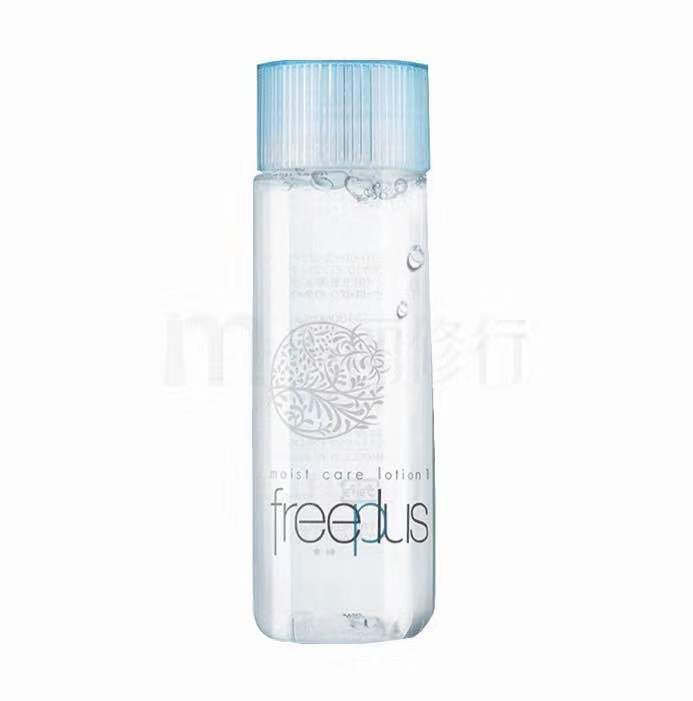cosmetic: (257, 66, 437, 646)
